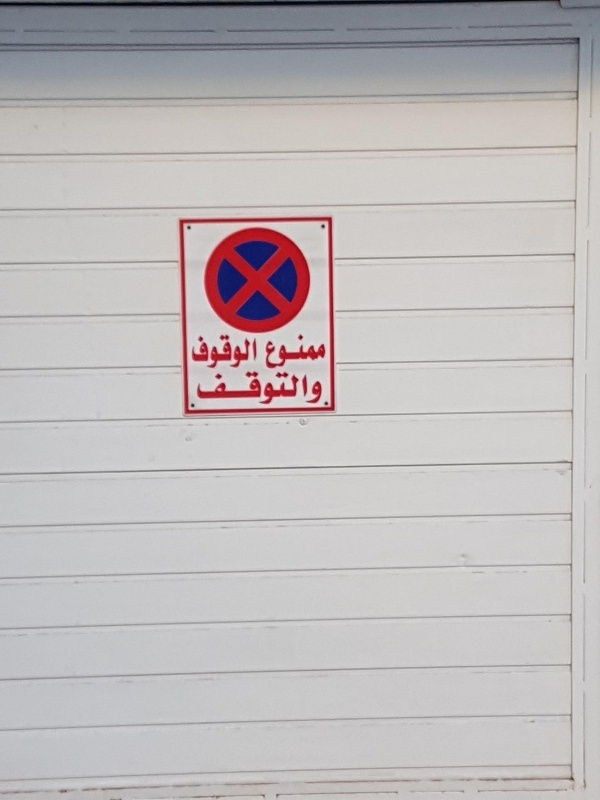text: (209, 369, 224, 406), (225, 369, 240, 406), (241, 369, 256, 406), (257, 369, 272, 406), (273, 369, 288, 406), (289, 369, 304, 406), (305, 369, 320, 406), (273, 335, 288, 370), (289, 335, 304, 370), (305, 335, 320, 370), (193, 334, 208, 369), (209, 334, 224, 369), (225, 334, 240, 369), (241, 334, 256, 369), (195, 369, 208, 406), (265, 335, 272, 370), (321, 335, 327, 370), (321, 369, 324, 406), (257, 334, 259, 369), (191, 334, 192, 369)
